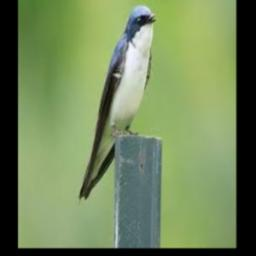Swallow: (79, 6, 158, 201)
